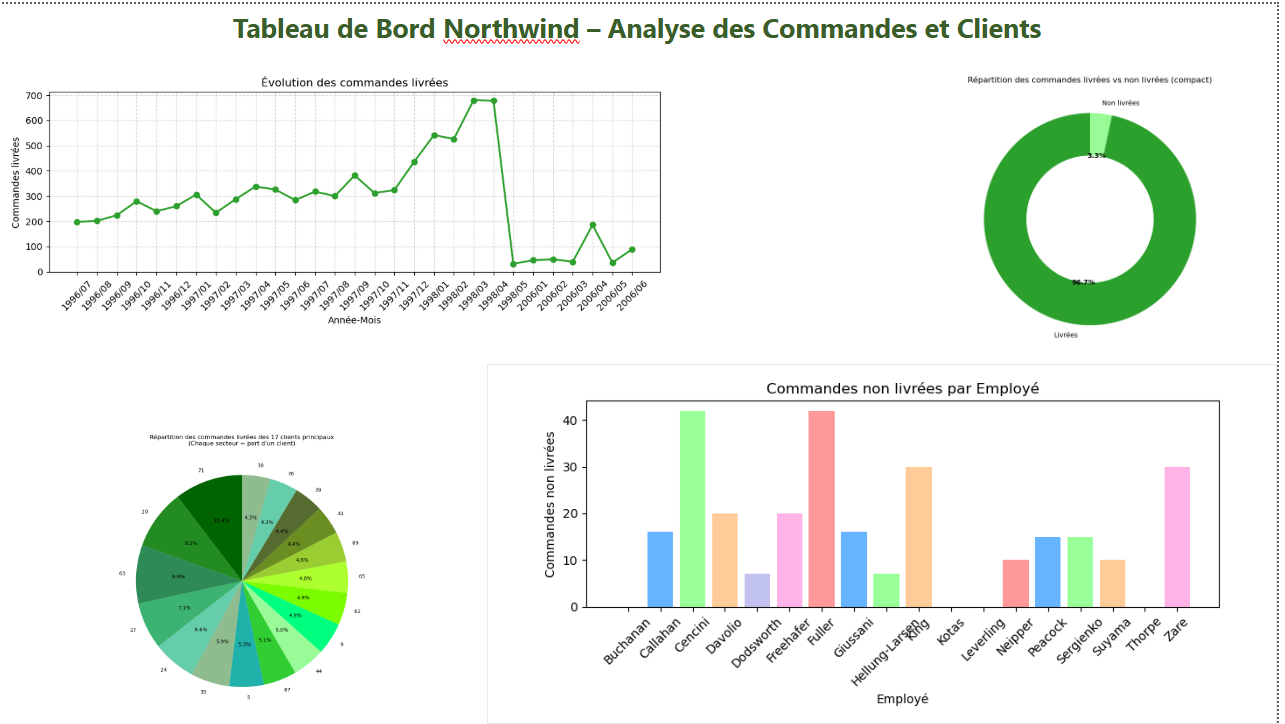

The dashboard page shown, as its layout file describes it:
{"tool":"powerbi","page":{"name":"Page 1","canvas":[1280,720],"ordinal":0},"visuals":[{"type":"pythonVisual","fields":{"Values":["table_fait.commande_nonlivree","dim_employee.LastName"]},"box":[490,360,790,360],"z":3001},{"type":"pythonVisual","fields":{"Values":["dim_temps.AnneeMois","table_fait.commande_livree"]},"box":[0,48,678,300],"z":3002},{"type":"pythonVisual","fields":{"Values":["dim_client.id_seqclient","table_fait.commande_livree"]},"box":[0,420,490,300],"z":3003},{"type":"pythonVisual","fields":{"Values":["table_fait.commande_nonlivree","table_fait.commande_livree","dim_employee.RegionDescription"]},"box":[906,60,374,300],"z":3004},{"type":"textbox","box":[0,0,1280,67],"z":3005}]}

Visuals, with their boxes in screenshot pixels (x1, y1, x2, y2), scaled from the page's 1280x720 canvas onto the 1285x724 screenshot:
pythonVisual - table_fait.commande_nonlivree x dim_employee.LastName: [left=492, top=362, right=1284, bottom=723]
pythonVisual - dim_temps.AnneeMois x table_fait.commande_livree: [left=0, top=48, right=681, bottom=350]
pythonVisual - dim_client.id_seqclient x table_fait.commande_livree: [left=0, top=422, right=492, bottom=723]
pythonVisual - table_fait.commande_nonlivree x table_fait.commande_livree: [left=910, top=60, right=1284, bottom=362]
textbox: [left=0, top=0, right=1284, bottom=67]
